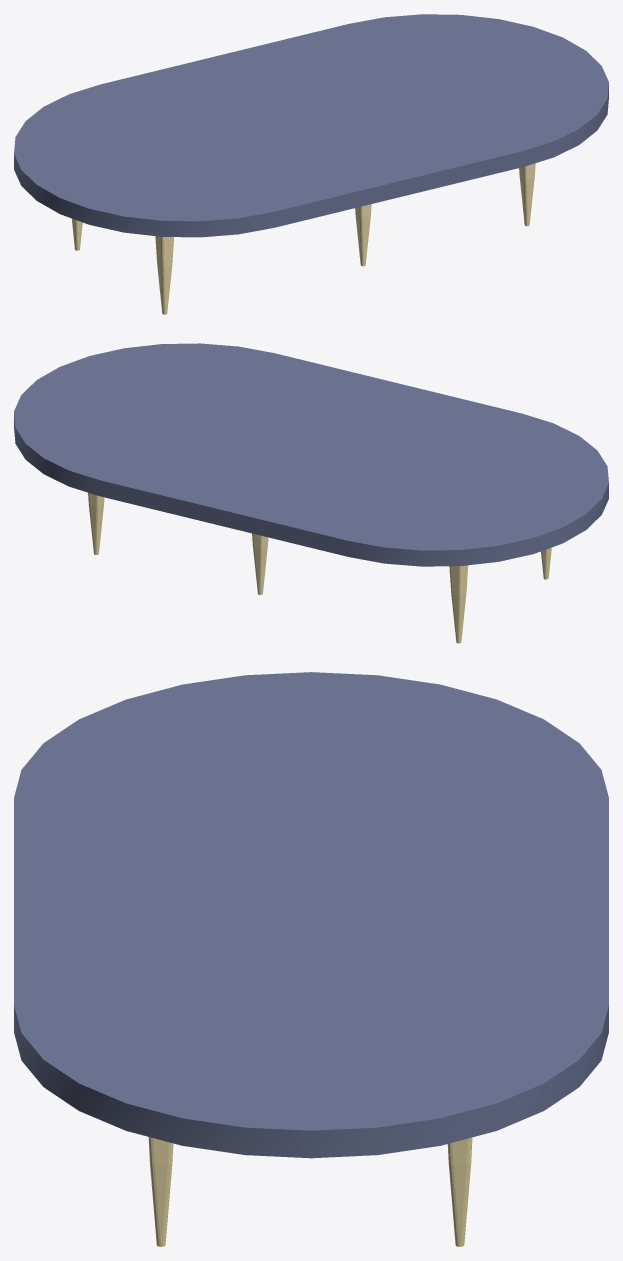
Rendered from meeting_Desk.fbx.
3 views of the same model, one above another, from view 1: azimuth 30°, elevation 25°; view 2: azimuth 150°, elevation 25°; view 3: azimuth 270°, elevation 25° (orthographic). The views are drawn at different scales.
Visible parts, largest first — view 1: meeting_Desk, Cube_212_491, Cube_218_495, Cube_216_493; view 2: meeting_Desk, Cube_215_492, Cube_219_496, Cube_217_494; view 3: meeting_Desk, Cube_218_495, Cube_219_496.
Boxes of the visible parts, x1,y1,x2,y2 form: meeting_Desk: (14,14,608,237); Cube_212_491: (155,236,173,314); Cube_218_495: (519,163,535,226); Cube_216_493: (355,204,371,266); meeting_Desk: (14,343,608,566); Cube_215_492: (449,565,468,643); Cube_219_496: (88,492,104,554); Cube_217_494: (252,533,268,594); meeting_Desk: (14,672,608,1158); Cube_218_495: (148,1137,173,1246); Cube_219_496: (447,1137,472,1246).
Size of the model in its own units: 368 by 74.88 by 202.
